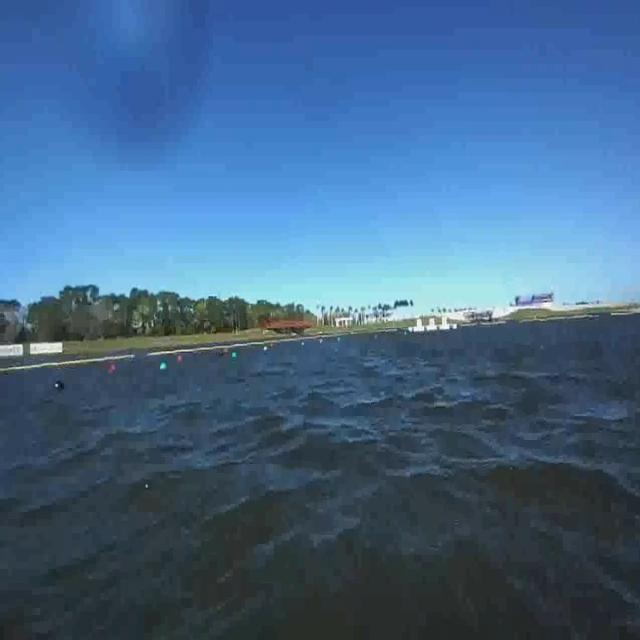black-buoy: (56, 381, 66, 391)
green-buoy: (161, 360, 169, 370)
